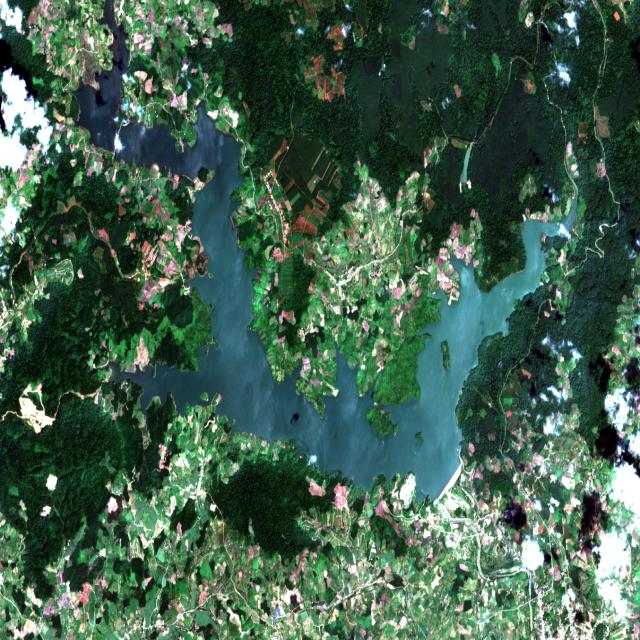bard_land: (441, 340, 450, 371), (415, 431, 424, 441)
river: (77, 1, 579, 498)
